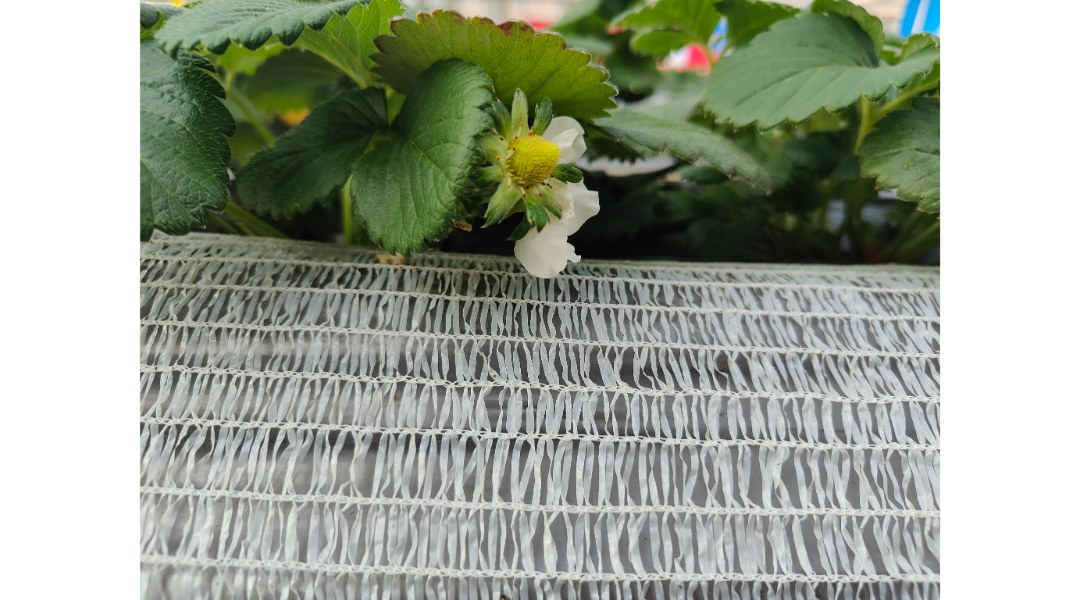berry: (483, 90, 568, 224)
flower: (531, 103, 584, 309)
